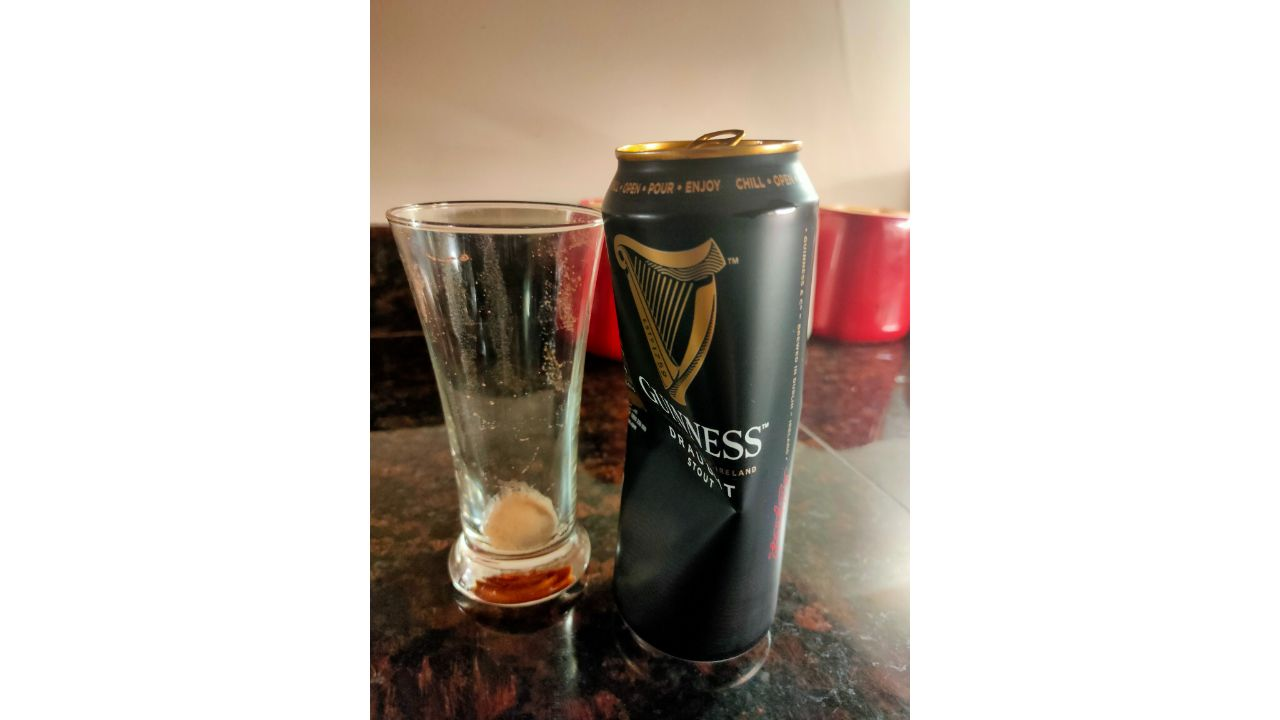Can: (602, 124, 822, 669)
